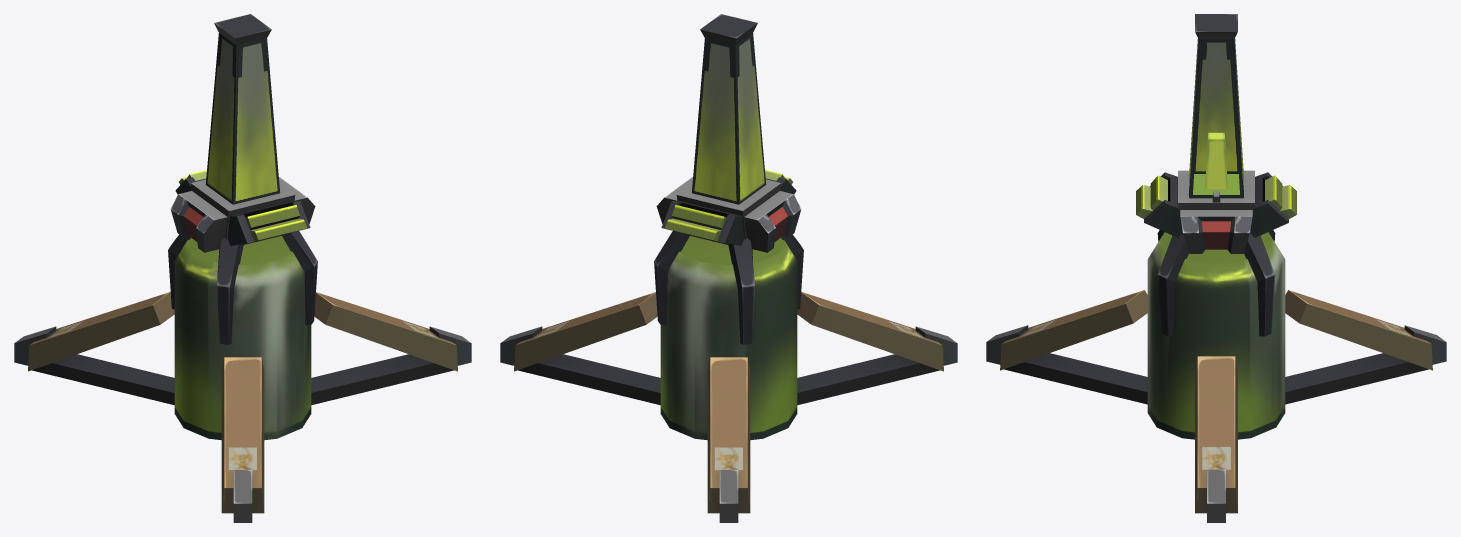
The model's file is trap_482_xbblure.fbx.
3 renders of one model, left to right at view 1: azimuth 30°, elevation 25°; view 2: azimuth 150°, elevation 25°; view 3: azimuth 270°, elevation 25°, orthographic.
Visible parts, largest first — view 1: trap_482_xbblure; view 2: trap_482_xbblure; view 3: trap_482_xbblure.
Boxes of the visible parts, <box> form: trap_482_xbblure: <box>14,14,471,522</box>; trap_482_xbblure: <box>500,14,957,522</box>; trap_482_xbblure: <box>986,14,1446,522</box>.
Size of the model in its own units: 0.7591 by 0.8194 by 0.8765.
1 material, 1 textured.
